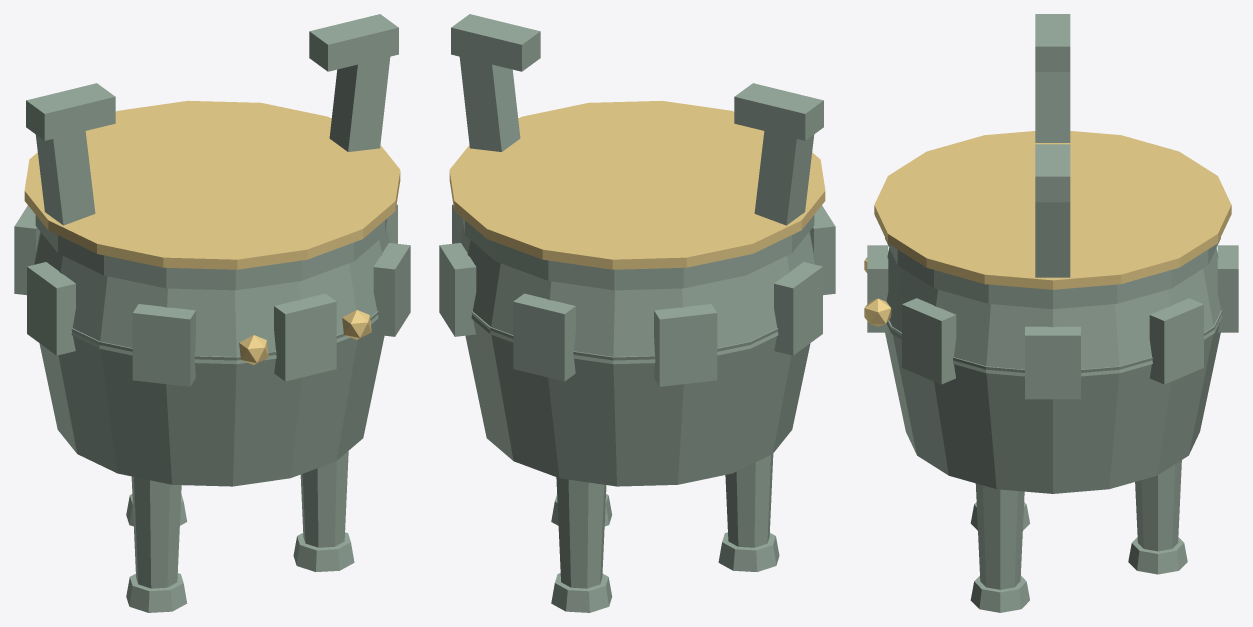
The model's file is SM_Prop_Ding.fbx.
3 renders of one model, left to right at view 1: azimuth 30°, elevation 25°; view 2: azimuth 150°, elevation 25°; view 3: azimuth 270°, elevation 25°, orthographic. The views are drawn at different scales.
Visible parts, largest first — view 1: Ding; view 2: Ding; view 3: Ding.
Part boxes in pixels (left/top/right/bottom): Ding: left=14, top=14, right=410, bottom=612; Ding: left=439, top=14, right=835, bottom=612; Ding: left=864, top=14, right=1238, bottom=612.
Bounding box in the file's own units: 1.1 × 1.47 × 1.07.
